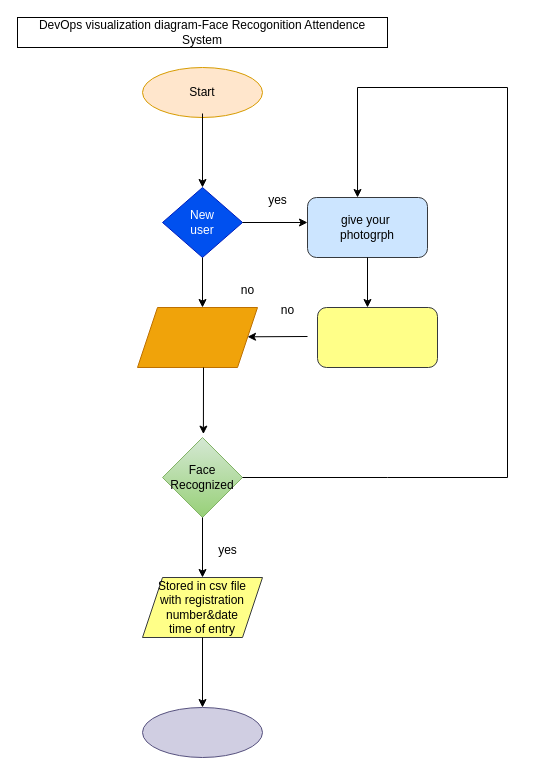
The diagram is 533 pixels wide and 775 high, and some of its shapes have lost their labels. Here are the shapes that lost their labels. From the top down, the centre of each, then its label:
At (x=197, y=337): "Recognize the face".
At (x=377, y=337): "Store the face data in folder on your name".
At (x=202, y=732): "End".
